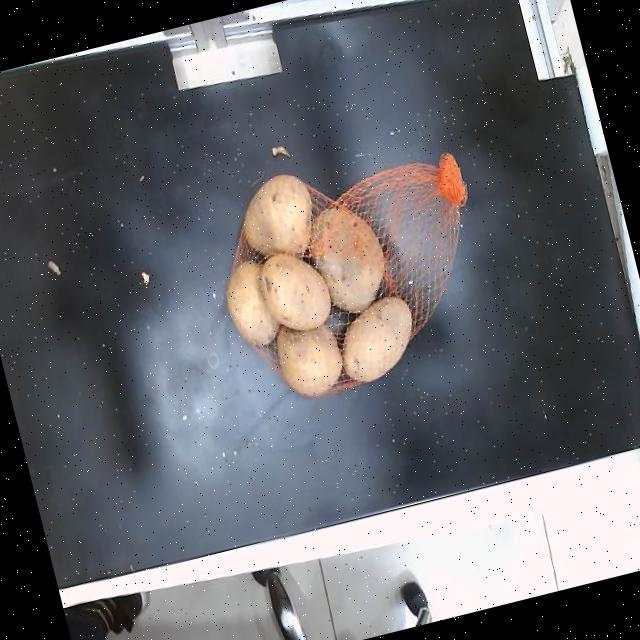potato: (309, 205, 381, 311), (341, 297, 410, 381), (242, 173, 311, 255), (259, 252, 330, 329), (275, 325, 341, 396), (225, 261, 278, 345)
